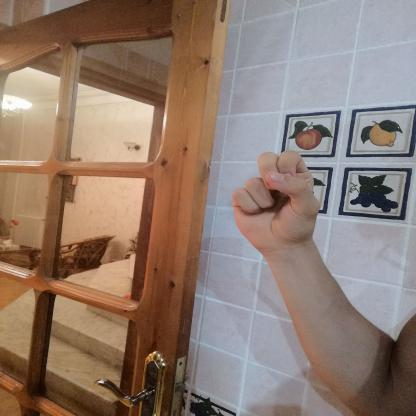QAAF: (220, 142, 331, 262)
